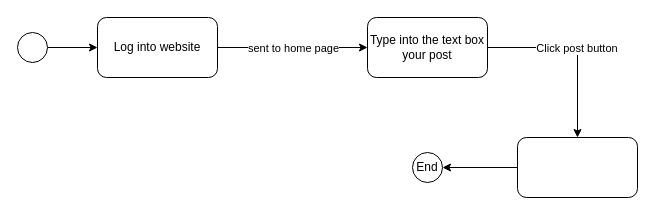
The diagram is 655 pixels wide and 215 high, and some of its shapes have lost their labels. Here are the shapes that lost their labels. From the top down, the box of each, then its label:
(16, 32, 48, 62): Start
(516, 136, 638, 198): Post is now uploaded to db
